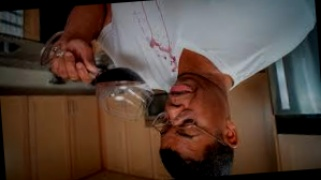wine: (140, 34, 163, 55), (134, 2, 149, 33), (157, 1, 169, 32), (157, 54, 176, 71), (163, 34, 173, 55)
